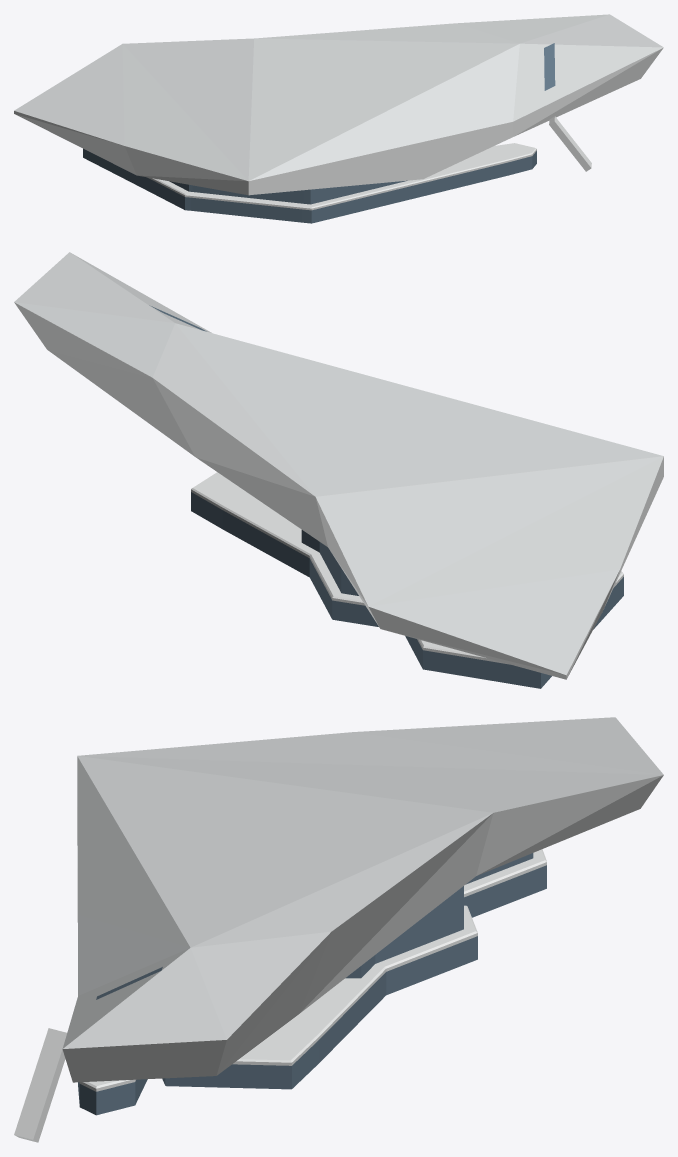
File: amsterdam-eye-filmmuseum.glb
3 renders of one model, top to bottom at view 1: azimuth 30°, elevation 25°; view 2: azimuth 150°, elevation 25°; view 3: azimuth 270°, elevation 25°, orthographic. The views are drawn at different scales.
Parts seen in each view (by area): view 1: Eye Filmmuseum; view 2: Eye Filmmuseum; view 3: Eye Filmmuseum.
Part boxes in pixels (bbox=[...]): Eye Filmmuseum: bbox=[14, 14, 663, 223]; Eye Filmmuseum: bbox=[14, 252, 663, 688]; Eye Filmmuseum: bbox=[14, 717, 663, 1142].
Bounding box in the file's own units: 118 × 22.46 × 75.1.
